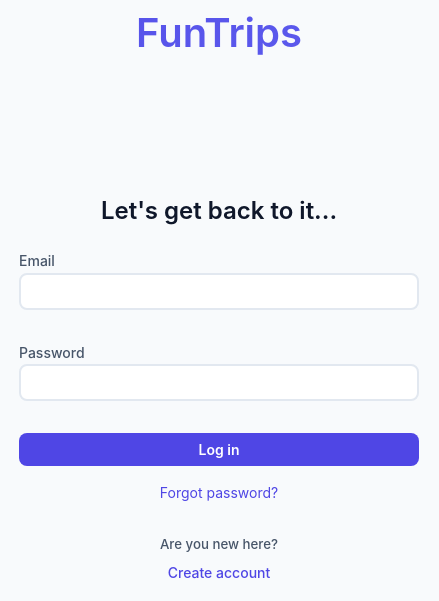
it: app › nav to register
This screenshot has width=439, height=601.
Type "asdf" into the field labelled "Email".
click(219, 292); type("asdf")  # box left=19, top=273, right=419, bottom=310
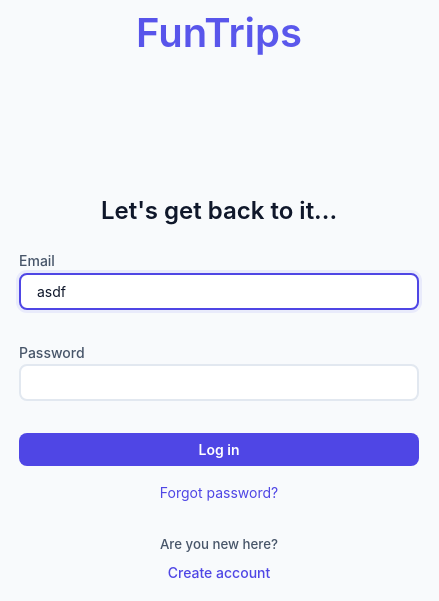
Type "asdf" into the password field labelled "Password".
click(219, 383); type("asdf")  # box left=19, top=364, right=419, bottom=401
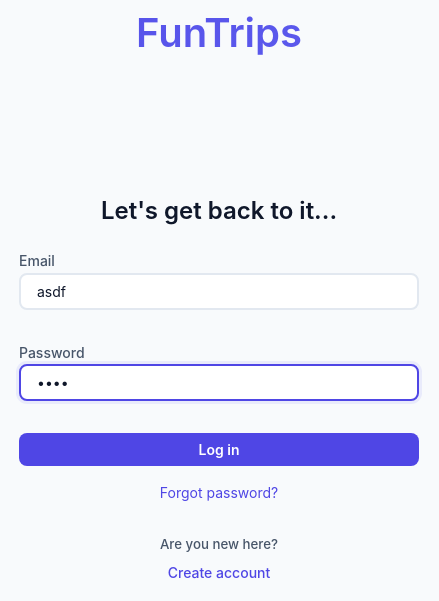
Click the link "Create account".
click(220, 573)  # box left=168, top=562, right=271, bottom=584
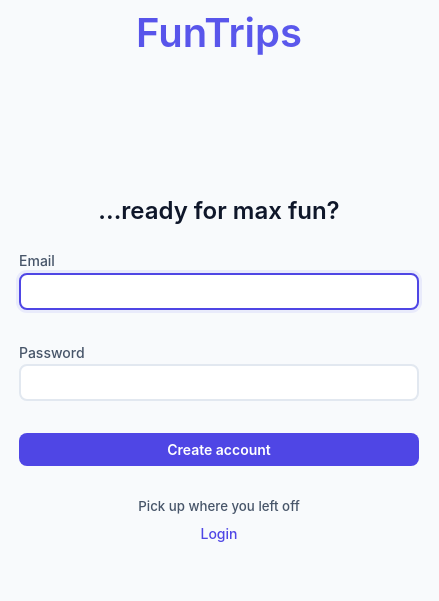
Type "bnm" into the field labelled "Email".
click(219, 292); type("bnm")  # box left=19, top=273, right=419, bottom=310
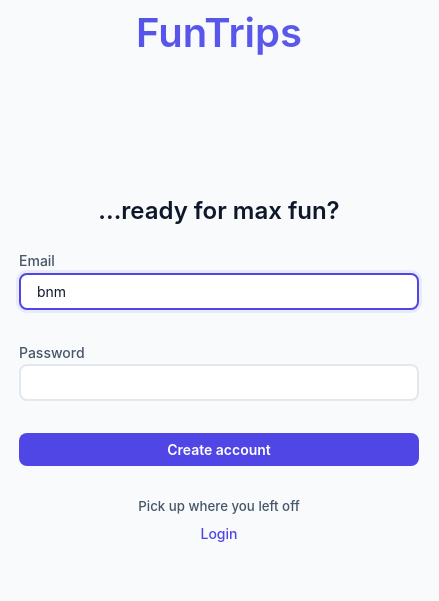
Type "bnm" into the password field labelled "Password".
click(219, 383); type("bnm")  # box left=19, top=364, right=419, bottom=401
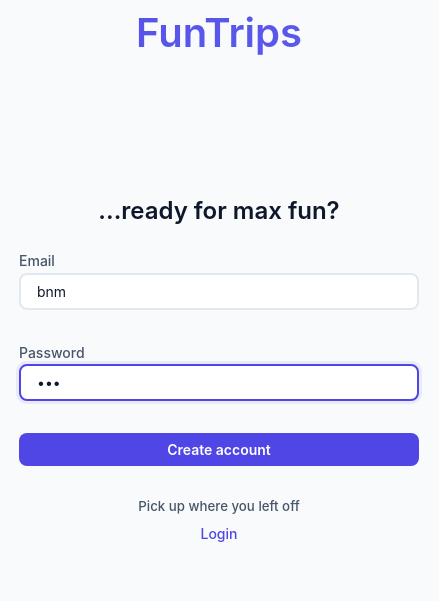
Expected: the button "Create account" is shown, left=19, top=433, right=419, bottom=466
Click the link "Login".
click(220, 534)  # box left=201, top=523, right=238, bottom=545
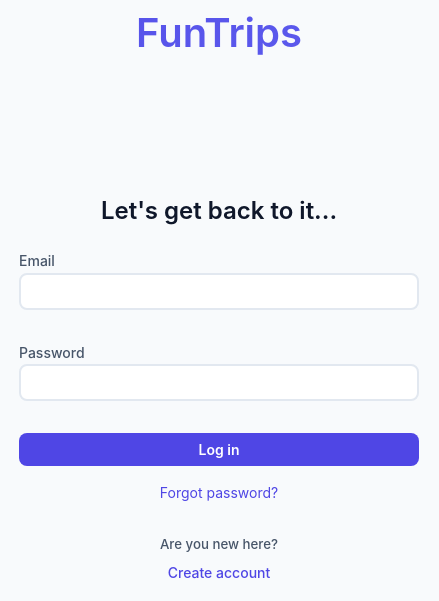
Expected: the button "Log in" is shown, left=19, top=433, right=419, bottom=466
